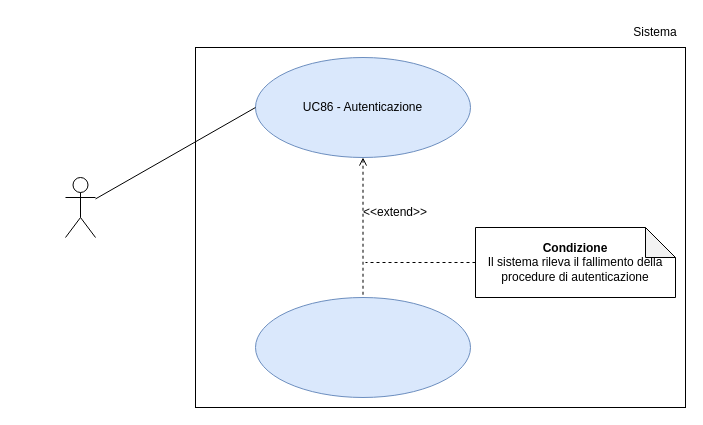
Some shapes in this 703 by 425 pixel diagram are drawn without their labels. The box of each missing label's shape, as (x1, y1, x2, y2) in pixels:
UC87 - Errore di autenticazione: (254, 296, 470, 398)
Utente non riconosciuto: (64, 176, 96, 238)
